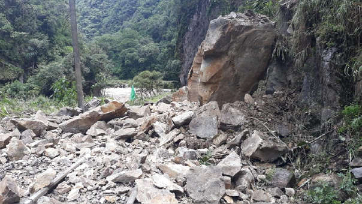stone: (185, 4, 281, 118), (57, 98, 133, 134), (182, 162, 228, 204), (187, 97, 223, 141), (6, 112, 52, 142), (99, 167, 148, 185), (215, 149, 245, 178), (1, 174, 25, 204)
